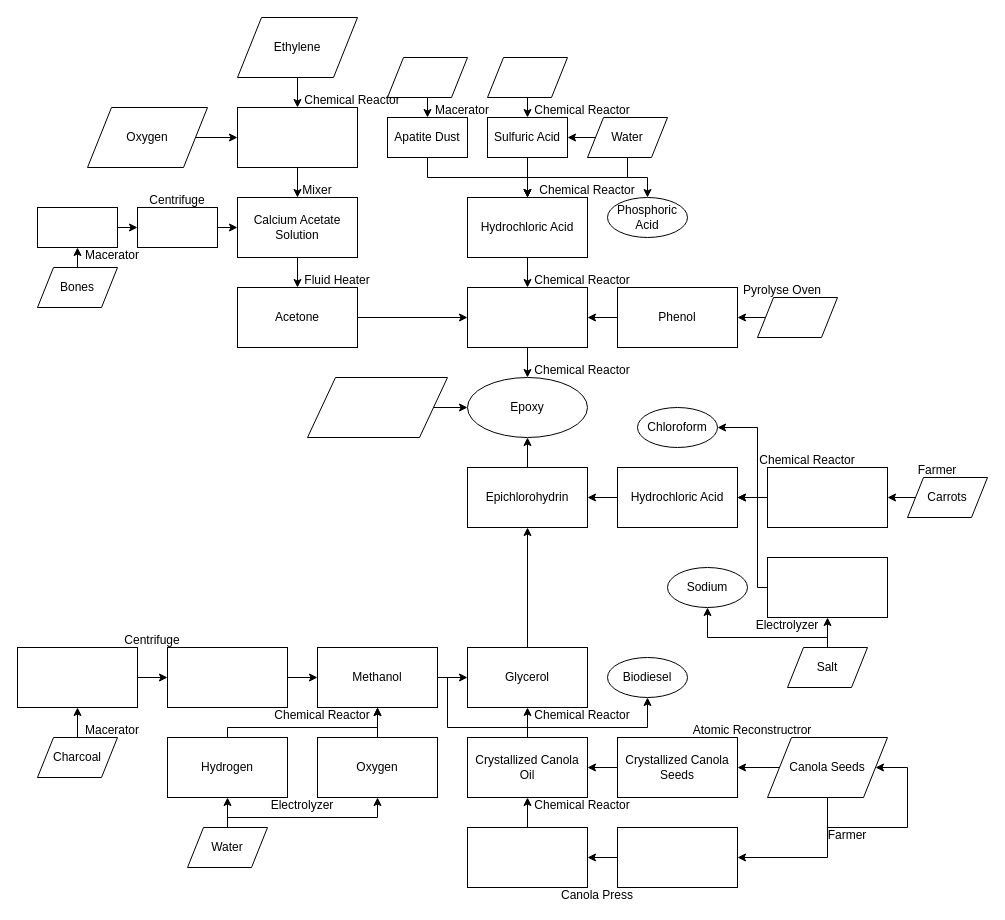
This 1005x920 diagram has some shape labels left out. Here are the shapes that lost their labels. From the top down, the centre of each, then its label:
At (427,77): "Apatite".
At (527,77): "Sulfur".
At (297,137): "Acetic Acid".
At (77,227): "Bone Meal".
At (177,227): "Calcium".
At (527,317): "Bisphenol A".
At (797,317): "Coal".
At (377,407): "Sodium Hydroxide".
At (827,497): "Methane".
At (827,587): "Chlorine".
At (77,677): "Charcoal Dust".
At (227,677): "Carbon Dust".
At (527,857): "Canola Oil".
At (677,857): "Canola".
